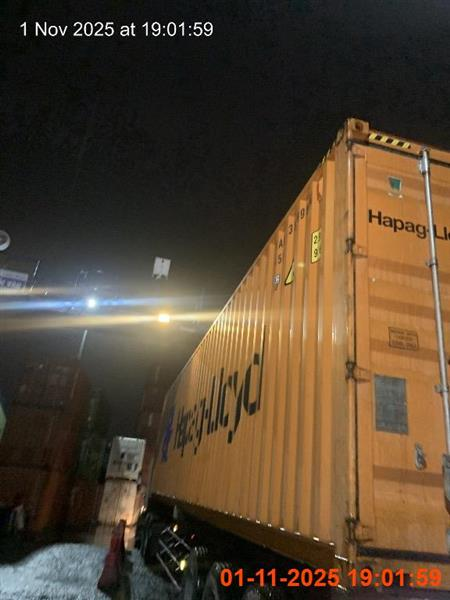hole: (134, 119, 449, 595)
